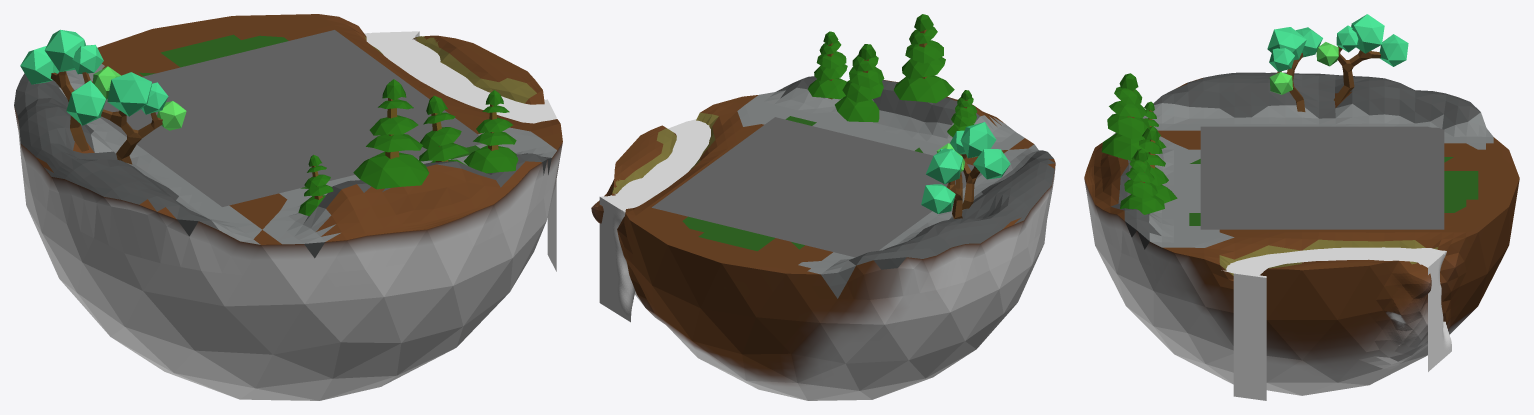
Rendered from islesimpletest.fbx.
The picture shows the model from 3 angles, left to right: view 1: azimuth 30°, elevation 25°; view 2: azimuth 150°, elevation 25°; view 3: azimuth 270°, elevation 25°; orthographic projection. The views are drawn at different scales.
Visible parts, largest first — view 1: Icosphere, Board, Water, Cube, Icosphere.001, Cube.001, Icosphere.002, Icosphere.003, Icosphere.004; view 2: Icosphere, Board, Water, Icosphere.001, Icosphere.003, Cube, Cube.001, Icosphere.002, Icosphere.004; view 3: Icosphere, Board, Water, Cube.001, Icosphere.001, Cube, Icosphere.002, Icosphere.003.
Part boxes in pixels (<box>): Icosphere: <box>14,14,562,400</box>; Board: <box>100,30,481,206</box>; Water: <box>364,31,556,271</box>; Cube: <box>66,72,186,164</box>; Icosphere.001: <box>353,79,428,189</box>; Cube.001: <box>20,29,120,151</box>; Icosphere.002: <box>463,90,518,173</box>; Icosphere.003: <box>419,95,468,165</box>; Icosphere.004: <box>298,154,333,216</box>; Icosphere: <box>591,76,1055,400</box>; Board: <box>652,117,981,257</box>; Water: <box>599,119,710,322</box>; Icosphere.001: <box>893,14,954,103</box>; Icosphere.003: <box>835,44,884,122</box>; Cube: <box>936,122,1010,209</box>; Cube.001: <box>921,148,964,218</box>; Icosphere.002: <box>807,31,847,99</box>; Icosphere.004: <box>947,90,977,137</box>; Icosphere: <box>1084,72,1519,395</box>; Board: <box>1200,126,1444,229</box>; Water: <box>1221,247,1451,400</box>; Cube.001: <box>1316,14,1408,103</box>; Icosphere.001: <box>1101,73,1159,160</box>; Cube: <box>1267,27,1322,111</box>; Icosphere.002: <box>1120,148,1164,214</box>; Icosphere.003: <box>1130,126,1177,203</box>.
Bounding box in the file's own units: 2001 × 1524 × 2001.
